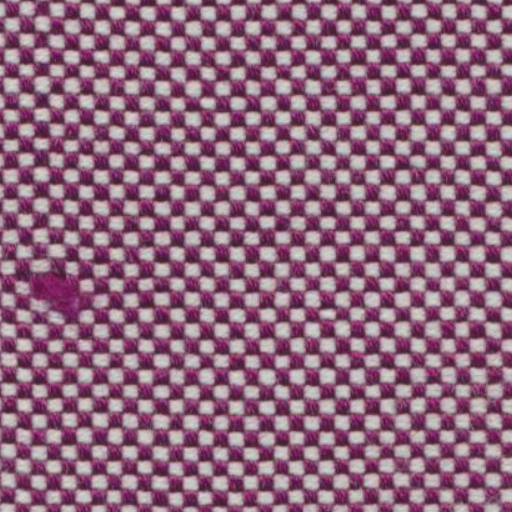MianQiu: (12, 238, 116, 339)
